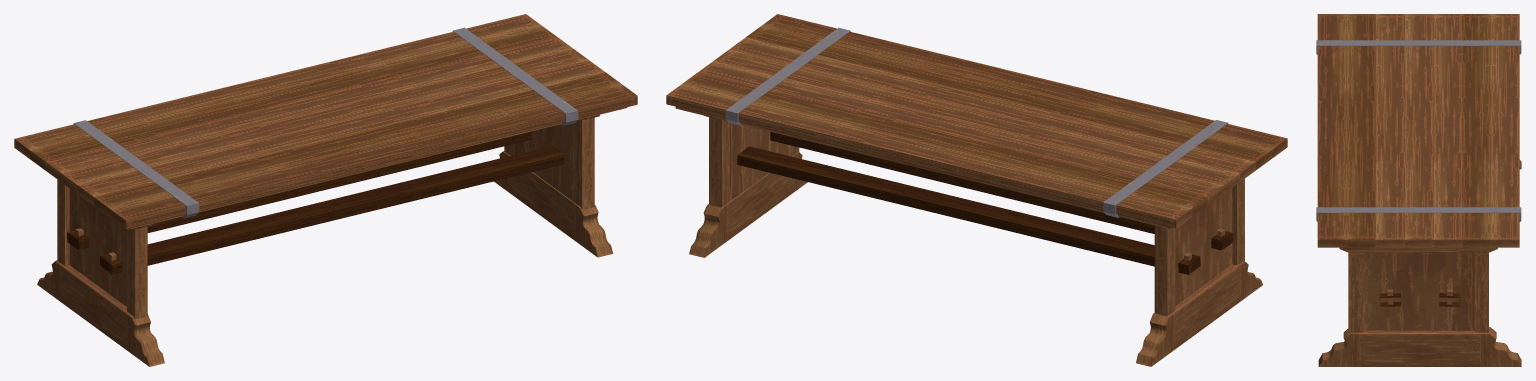
File: table_large.glb
3 views of the same model, side by side, from view 1: azimuth 30°, elevation 25°; view 2: azimuth 150°, elevation 25°; view 3: azimuth 270°, elevation 25° (orthographic). The views are drawn at different scales.
Visible parts, largest first — view 1: Table_Large.001; view 2: Table_Large.001; view 3: Table_Large.001.
Part boxes in pixels (left/top/right/bottom): Table_Large.001: left=14, top=14, right=637, bottom=366; Table_Large.001: left=666, top=14, right=1287, bottom=366; Table_Large.001: left=1316, top=14, right=1521, bottom=366.
Bounding box in the file's own units: 2.85 × 0.8134 × 1.1.
Materials: 2 (2 with a texture image).
